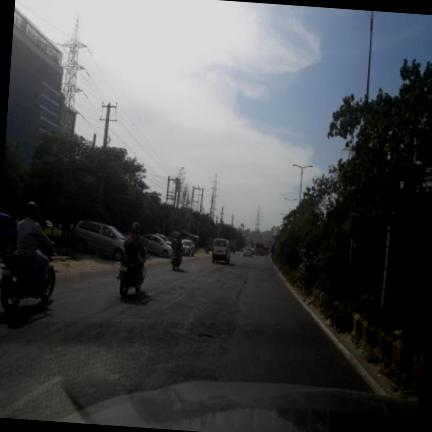Road: (0, 255, 371, 419)
